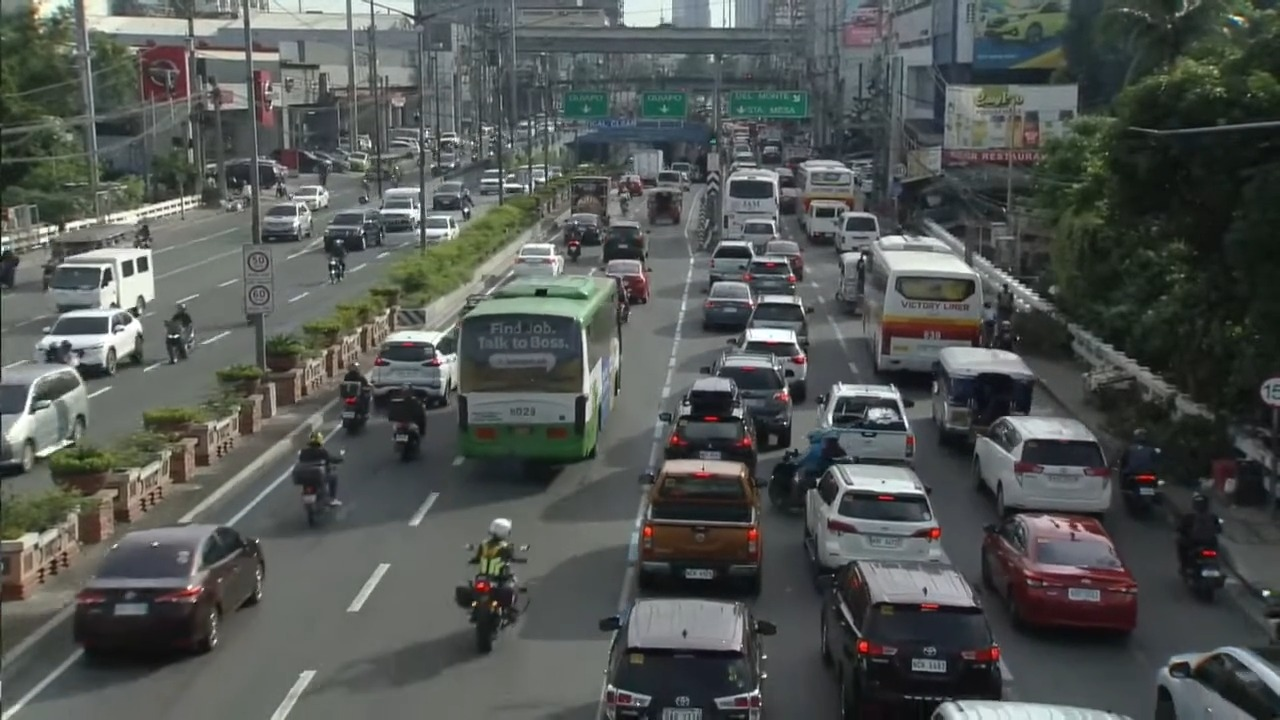bus: (457, 275, 621, 464), (862, 245, 982, 371), (795, 160, 862, 230), (721, 168, 780, 239), (874, 235, 954, 254)
car: (819, 560, 1003, 717), (73, 524, 265, 656), (599, 598, 775, 719), (981, 514, 1137, 633), (804, 463, 946, 575), (973, 416, 1110, 516), (659, 377, 758, 476), (0, 363, 89, 472), (1154, 644, 1279, 719), (700, 352, 792, 446), (816, 383, 916, 465), (33, 308, 143, 375), (369, 330, 457, 406), (728, 327, 807, 401), (929, 699, 1132, 719), (982, 0, 1067, 45), (747, 294, 812, 347), (324, 207, 383, 252), (702, 281, 754, 329), (708, 240, 755, 286), (261, 200, 313, 241), (743, 255, 797, 294), (604, 259, 649, 303), (602, 220, 647, 262), (512, 243, 563, 276), (764, 240, 804, 280), (270, 149, 333, 173), (379, 195, 419, 231), (742, 218, 780, 254), (563, 213, 603, 245), (775, 167, 799, 214), (432, 181, 467, 211), (423, 214, 459, 243), (293, 185, 330, 211), (313, 151, 350, 171), (479, 168, 503, 195), (388, 139, 421, 156), (502, 176, 528, 195), (346, 151, 368, 171), (730, 159, 758, 173)
motorcycle: (455, 575, 526, 653), (767, 449, 820, 511), (1180, 547, 1226, 603), (293, 464, 334, 526), (1117, 468, 1163, 517), (767, 449, 803, 511), (339, 381, 371, 433), (165, 323, 194, 364), (393, 422, 422, 462), (45, 340, 79, 366), (0, 251, 19, 289), (328, 256, 344, 283), (42, 262, 56, 291), (566, 240, 580, 262), (134, 232, 151, 248), (617, 303, 630, 323), (619, 196, 629, 215), (461, 203, 470, 221)
truck: (637, 459, 763, 595), (570, 175, 609, 224), (632, 148, 664, 186)
